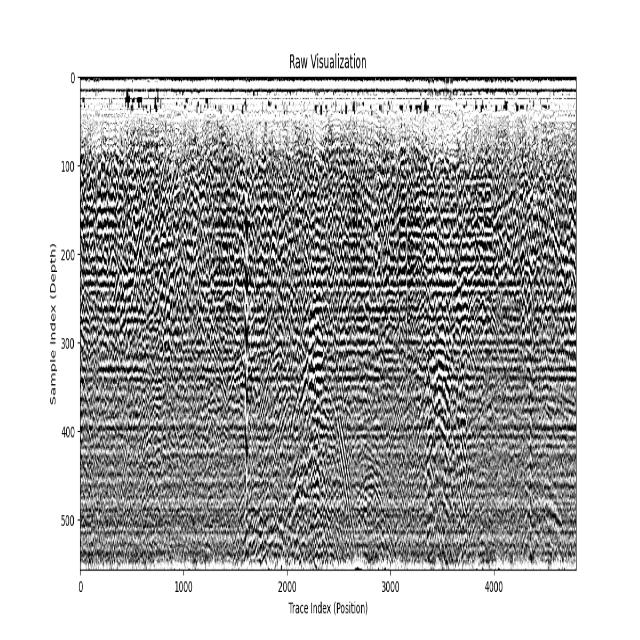anomaly: (290, 381, 356, 565), (427, 310, 459, 524), (506, 471, 572, 566)
